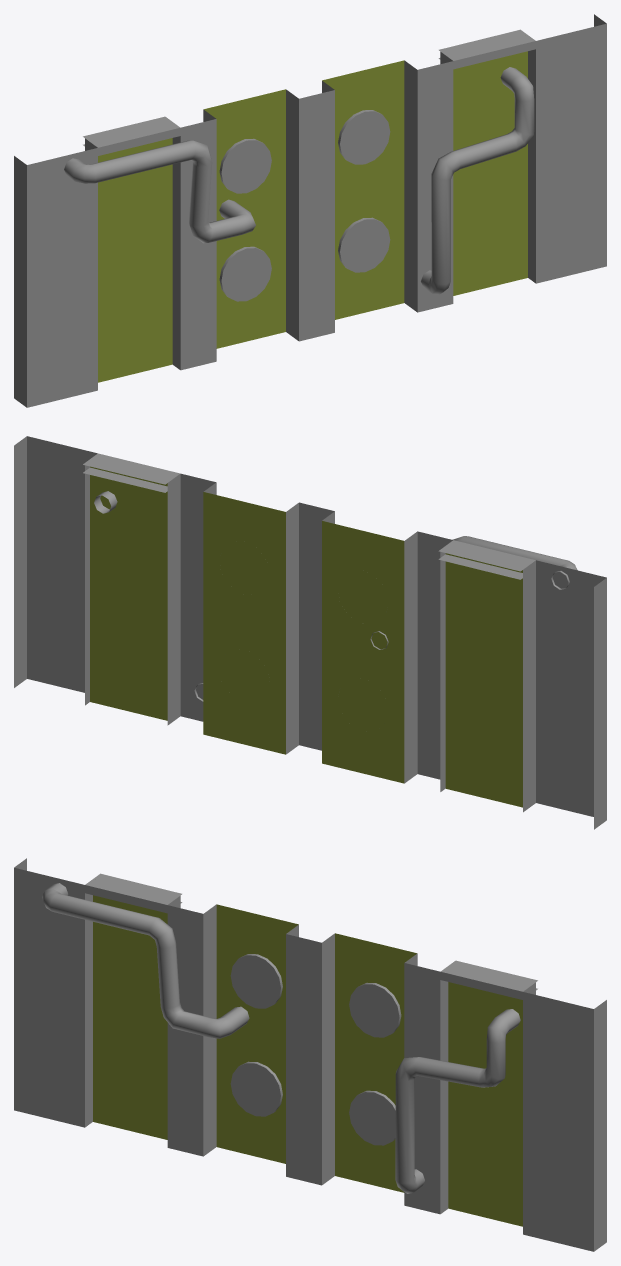
Rendered from wall5b lod1.FBX.
3 renders of one model, top to bottom at view 1: azimuth 30°, elevation 25°; view 2: azimuth 150°, elevation 25°; view 3: azimuth 330°, elevation 25°, orthographic.
Parts seen in each view (by area): view 1: Object323; view 2: Object323; view 3: Object323.
Part boxes in pixels (<box>): Object323: <box>14,14,606,407</box>; Object323: <box>14,436,606,829</box>; Object323: <box>14,858,606,1251</box>.
Bounding box in the file's own units: 10 × 4 × 0.9562.
